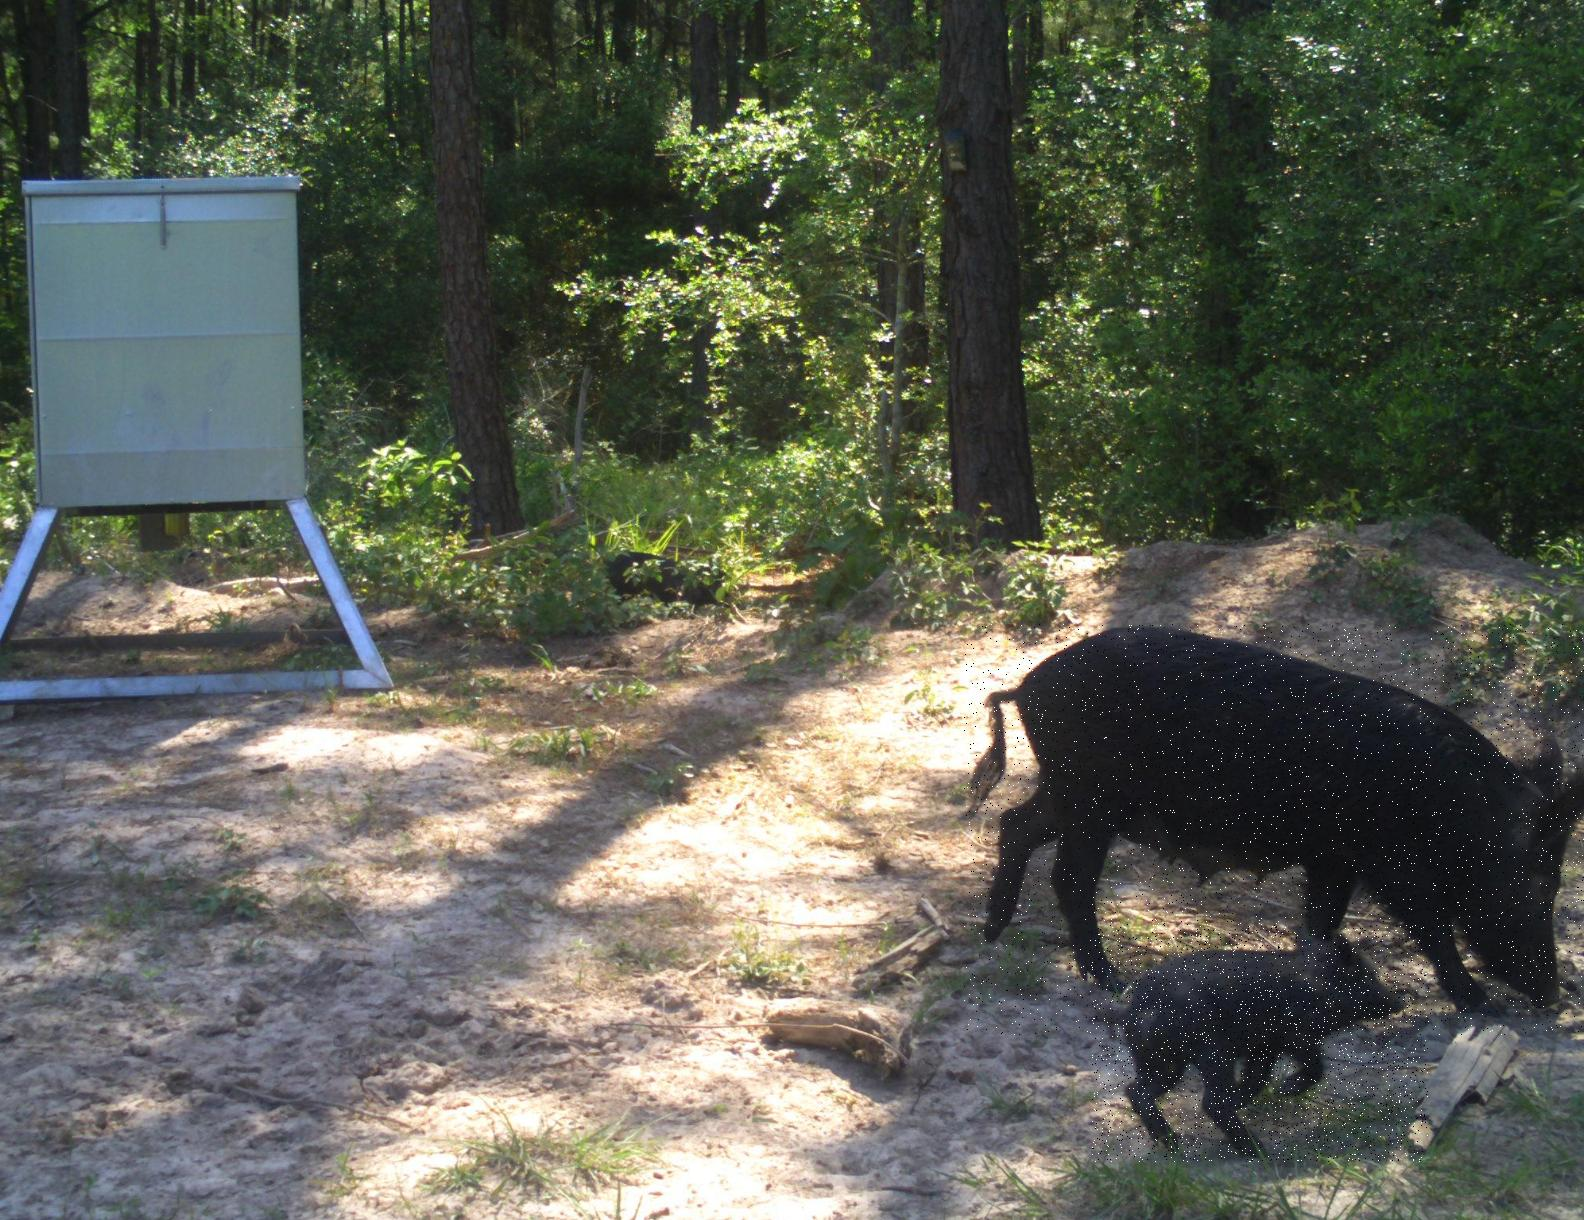Hog: (964, 624, 1584, 1035), (1092, 924, 1428, 1162)
